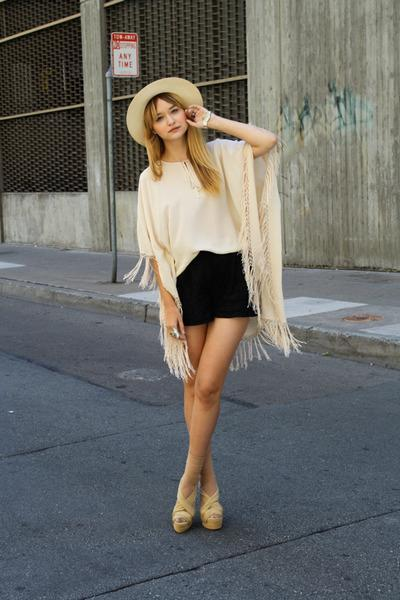hat: (121, 77, 203, 155)
jacket: (120, 139, 300, 379)
shoe: (172, 492, 222, 530)
skirt: (176, 251, 251, 323)
